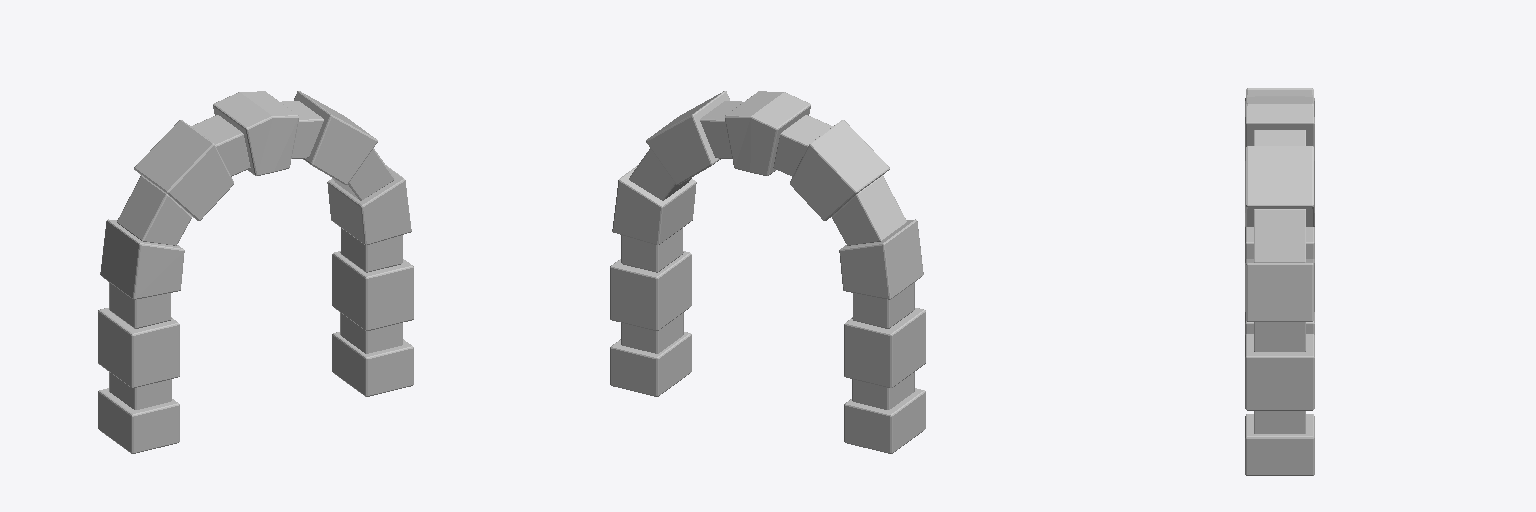
File: stonearch.obj
3 views of the same model, side by side, from view 1: azimuth 30°, elevation 25°; view 2: azimuth 150°, elevation 25°; view 3: azimuth 270°, elevation 25° (orthographic).
Visible parts, largest first — view 1: MESH_Door_Arch_002, MESH_Door_Arch_006, MESH_Door_Arch_004, MESH_Door_Arch_000, MESH_Door_Arch_005, MESH_Door_Arch_008, MESH_Door_Arch_003, MESH_Door_Arch_007, MESH_Door_Arch_001; view 2: MESH_Door_Arch_002, MESH_Door_Arch_006, MESH_Door_Arch_004, MESH_Door_Arch_000, MESH_Door_Arch_005, MESH_Door_Arch_008, MESH_Door_Arch_003, MESH_Door_Arch_007, MESH_Door_Arch_001; view 3: MESH_Door_Arch_006, MESH_Door_Arch_002, MESH_Door_Arch_004, MESH_Door_Arch_000, MESH_Door_Arch_005, MESH_Door_Arch_008, MESH_Door_Arch_003, MESH_Door_Arch_001, MESH_Door_Arch_007.
Part boxes in pixels (bbox=[...]): MESH_Door_Arch_002: bbox=[98, 251, 413, 387]; MESH_Door_Arch_006: bbox=[134, 91, 377, 220]; MESH_Door_Arch_004: bbox=[100, 165, 411, 299]; MESH_Door_Arch_000: bbox=[98, 332, 413, 453]; MESH_Door_Arch_005: bbox=[117, 148, 394, 245]; MESH_Door_Arch_008: bbox=[213, 91, 298, 175]; MESH_Door_Arch_003: bbox=[109, 228, 402, 328]; MESH_Door_Arch_007: bbox=[191, 101, 323, 176]; MESH_Door_Arch_001: bbox=[109, 313, 402, 409]; MESH_Door_Arch_002: bbox=[610, 251, 925, 387]; MESH_Door_Arch_006: bbox=[646, 91, 889, 220]; MESH_Door_Arch_004: bbox=[612, 165, 923, 299]; MESH_Door_Arch_000: bbox=[610, 332, 925, 453]; MESH_Door_Arch_005: bbox=[629, 148, 906, 245]; MESH_Door_Arch_008: bbox=[725, 91, 810, 175]; MESH_Door_Arch_003: bbox=[621, 228, 914, 328]; MESH_Door_Arch_007: bbox=[700, 101, 832, 176]; MESH_Door_Arch_001: bbox=[621, 313, 914, 409]; MESH_Door_Arch_006: bbox=[1245, 88, 1314, 226]; MESH_Door_Arch_002: bbox=[1245, 227, 1314, 410]; MESH_Door_Arch_004: bbox=[1245, 259, 1314, 321]; MESH_Door_Arch_000: bbox=[1245, 312, 1314, 475]; MESH_Door_Arch_005: bbox=[1254, 209, 1305, 262]; MESH_Door_Arch_008: bbox=[1245, 97, 1314, 160]; MESH_Door_Arch_003: bbox=[1254, 322, 1305, 351]; MESH_Door_Arch_001: bbox=[1254, 411, 1305, 433]; MESH_Door_Arch_007: bbox=[1254, 96, 1305, 145].
Size of the model in its own units: 3.79 by 3.9 by 0.8175.